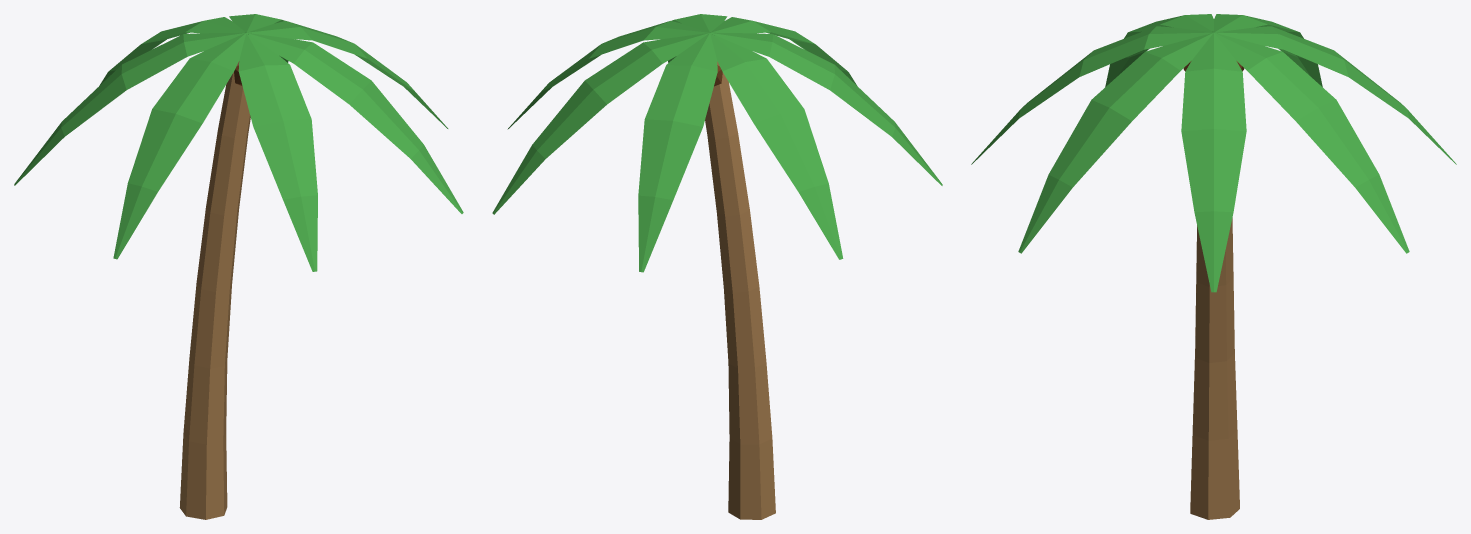
The model's file is nature2_palm_tree.glb.
The picture shows the model from 3 angles, left to right: view 1: azimuth 30°, elevation 25°; view 2: azimuth 150°, elevation 25°; view 3: azimuth 270°, elevation 25°; orthographic projection. The views are drawn at different scales.
Visible parts, largest first — view 1: palm_tree; view 2: palm_tree; view 3: palm_tree.
Boxes of the visible parts, left/top/right/bottom form: palm_tree: left=14, top=14, right=463, bottom=519; palm_tree: left=492, top=14, right=942, bottom=519; palm_tree: left=971, top=14, right=1456, bottom=519.
Size of the model in its own units: 3.62 by 4.21 by 3.71.
